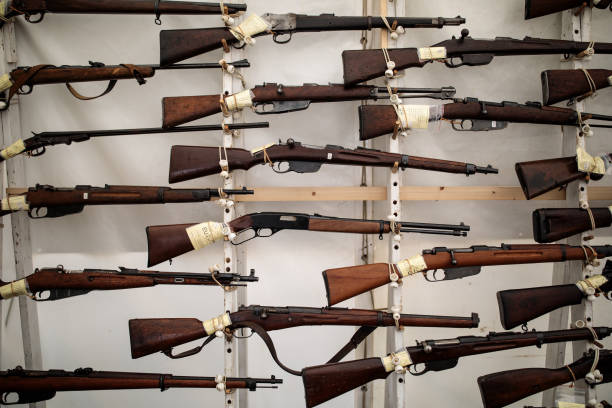rifle: (313, 325, 612, 404), (147, 212, 474, 260), (320, 240, 612, 293), (166, 141, 500, 186), (3, 360, 290, 408), (357, 97, 612, 141), (159, 9, 472, 44), (341, 35, 612, 75), (156, 80, 457, 116), (3, 262, 263, 303), (7, 178, 266, 212)
